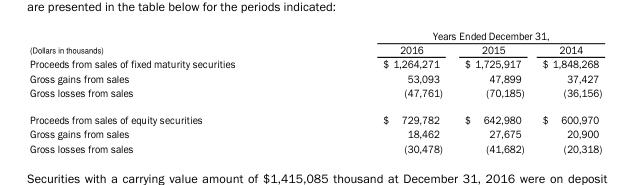table: (28, 28, 601, 154)
table column: (28, 28, 308, 154), (308, 28, 452, 154), (452, 28, 532, 154), (532, 28, 601, 154)
table column header: (28, 28, 601, 56)
table row: (28, 105, 601, 126), (28, 85, 601, 105), (28, 70, 601, 85), (28, 28, 601, 42), (28, 42, 601, 56), (28, 56, 601, 70), (28, 126, 601, 140), (28, 140, 601, 154)
table spanning cell: (28, 28, 308, 56), (308, 28, 601, 42)
